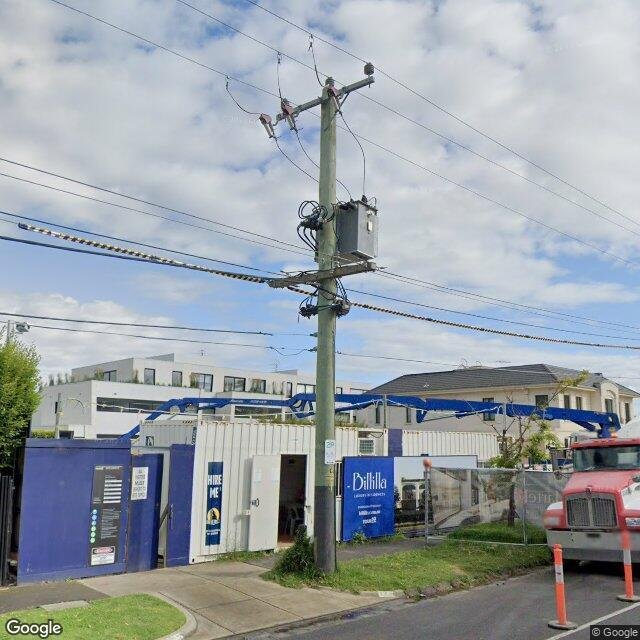HV-transmission: (258, 61, 375, 142)
crossarm: (276, 76, 376, 121), (270, 262, 377, 289)
timber-pole: (313, 87, 339, 572)
transformer: (296, 194, 379, 265)
